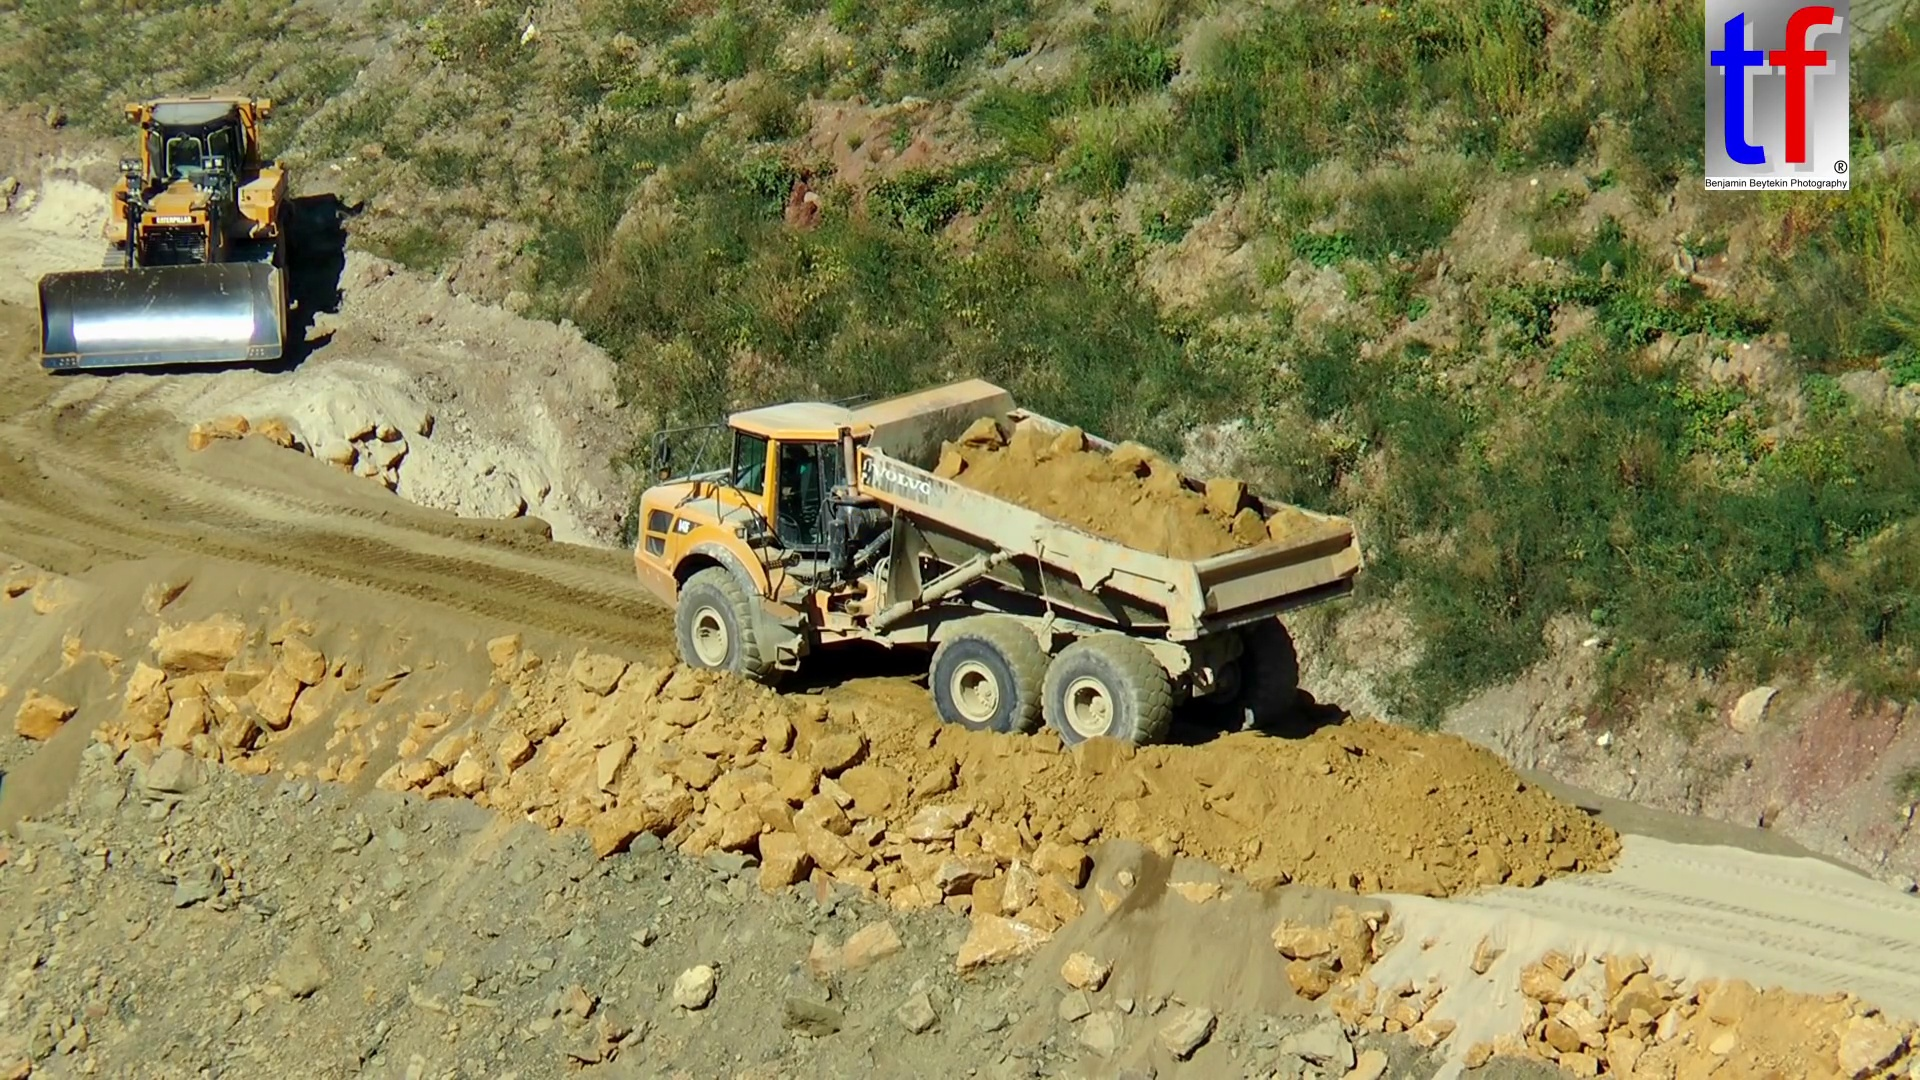bulldozer: (33, 86, 291, 378)
dumper: (629, 376, 1369, 752)
